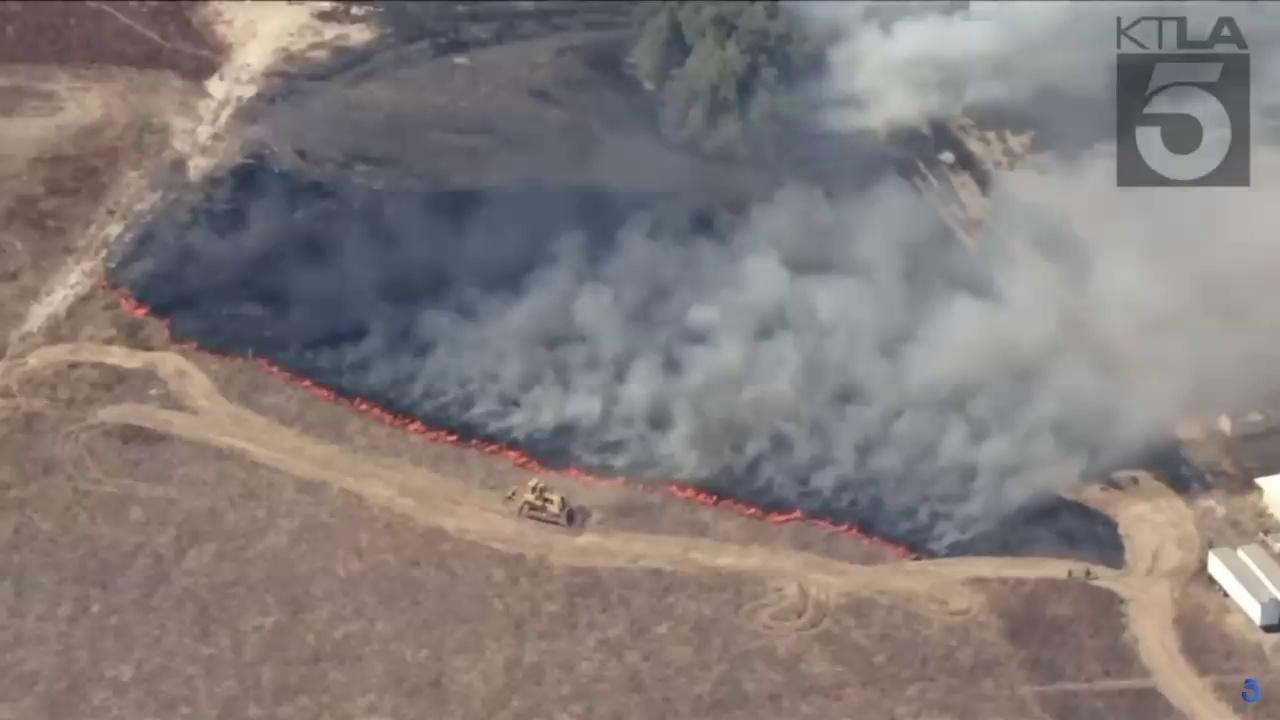fire: (658, 479, 918, 560), (352, 393, 549, 474), (252, 356, 341, 403), (558, 463, 655, 490), (117, 286, 152, 321)
smoke: (115, 0, 1280, 554)
